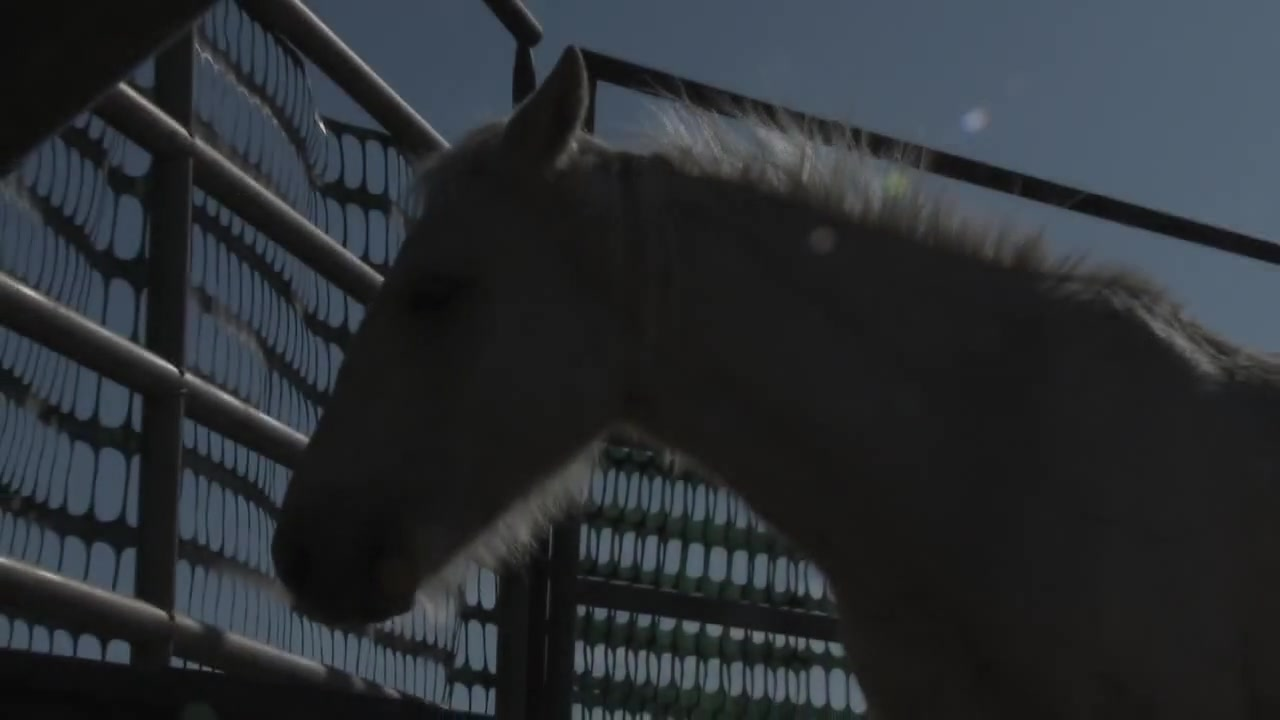horse: (266, 48, 1280, 720)
